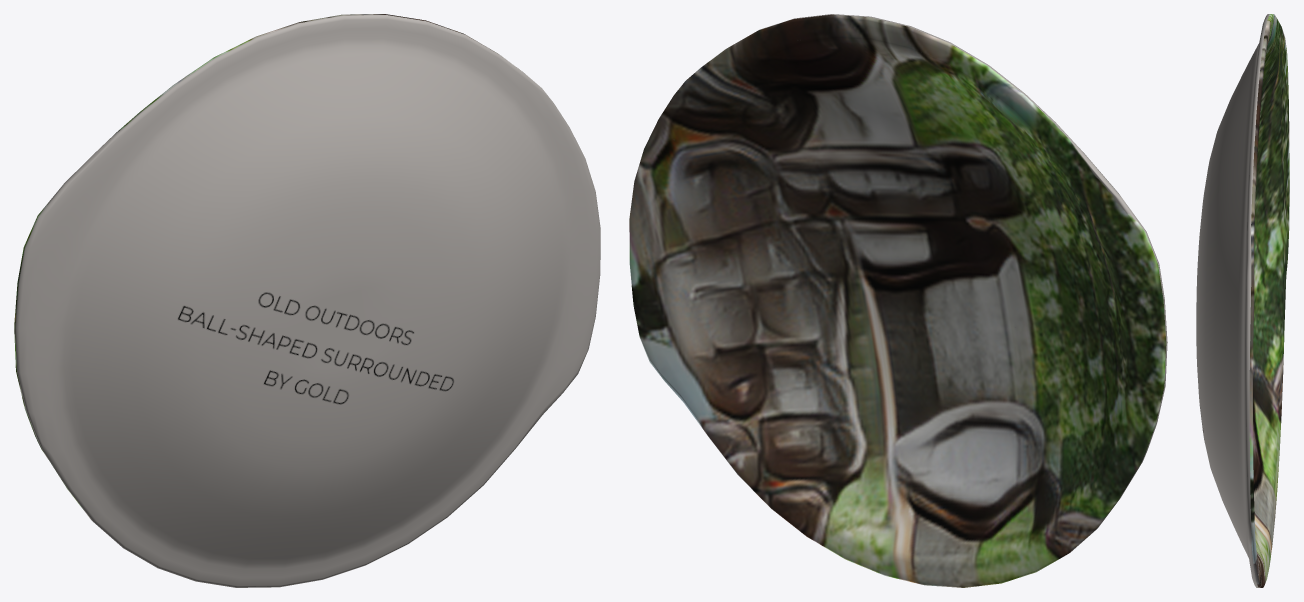
The picture shows the model from 3 angles, left to right: view 1: azimuth 30°, elevation 25°; view 2: azimuth 150°, elevation 25°; view 3: azimuth 270°, elevation 25°; orthographic projection. The views are drawn at different scales.
Parts seen in each view (by area): view 1: bluewhitered39:_bluewhitered_39_remodel1 group; view 2: bluewhitered39:_bluewhitered_39_remodel1 group; view 3: bluewhitered39:_bluewhitered_39_remodel1 group.
Part boxes in pixels (box(x1,y1,x2,y2)): bluewhitered39:_bluewhitered_39_remodel1 group: box(14, 14, 600, 587); bluewhitered39:_bluewhitered_39_remodel1 group: box(629, 14, 1167, 587); bluewhitered39:_bluewhitered_39_remodel1 group: box(1196, 14, 1289, 587).
Size of the model in its own units: 8.8 by 8.37 by 1.36.
Materials: 1 (1 with a texture image).
